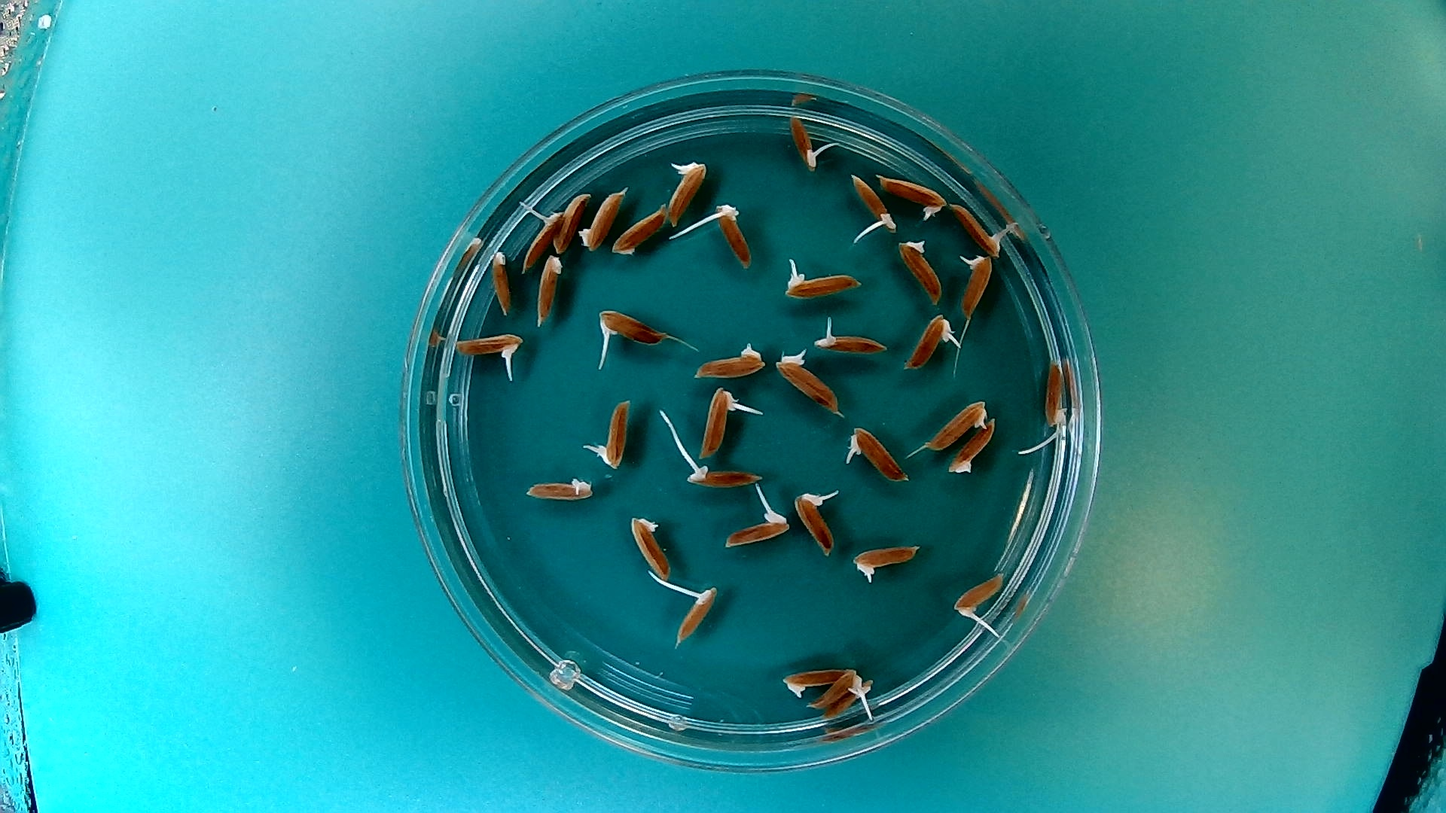no: (576, 184, 628, 254), (630, 511, 675, 583), (946, 421, 996, 475), (551, 185, 590, 254), (533, 251, 566, 327), (610, 205, 667, 249), (825, 678, 874, 723), (486, 247, 514, 316)
yes: (773, 346, 845, 416), (778, 254, 866, 301), (919, 395, 990, 452), (846, 423, 911, 484), (721, 500, 792, 551), (903, 310, 960, 372), (949, 199, 1008, 257), (664, 154, 709, 230), (877, 172, 949, 219), (898, 234, 945, 305), (850, 541, 924, 586), (794, 485, 839, 559), (592, 306, 668, 349), (673, 580, 721, 648), (688, 339, 767, 379), (849, 172, 896, 237), (696, 385, 737, 458), (810, 318, 890, 355), (522, 202, 564, 272), (715, 198, 755, 268), (598, 391, 632, 472), (950, 568, 1008, 615), (678, 458, 762, 490), (955, 248, 995, 315), (520, 471, 596, 504), (786, 110, 825, 172), (1043, 359, 1076, 431), (449, 329, 529, 358), (779, 667, 851, 697), (813, 671, 862, 711)
